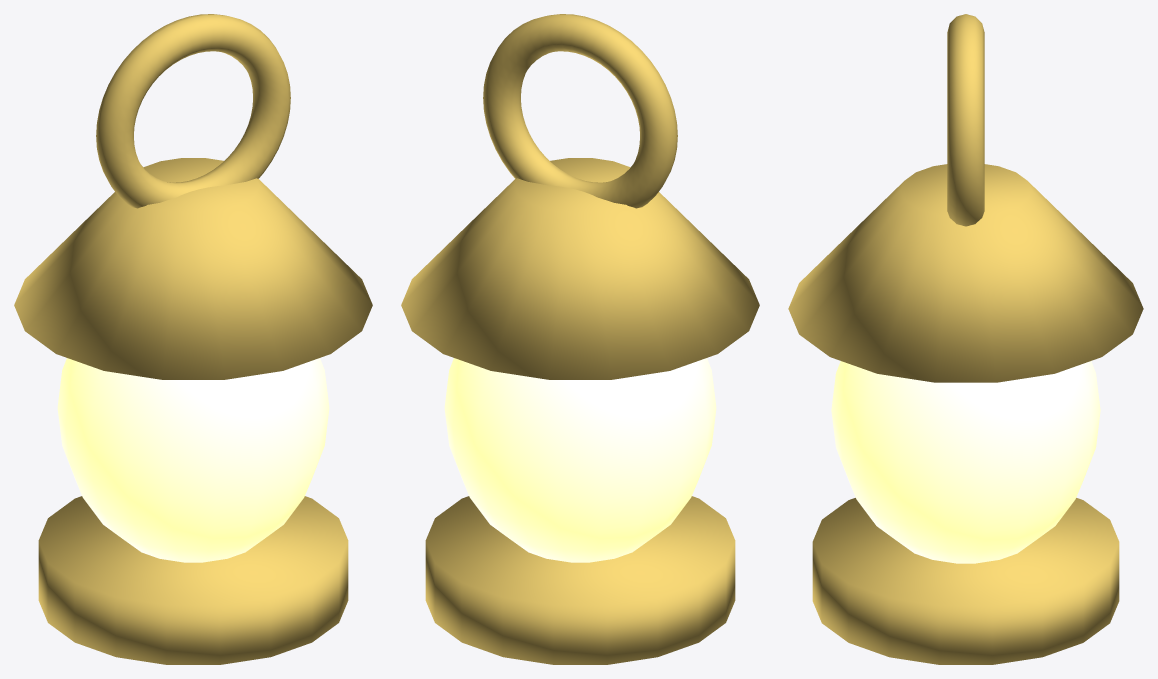
The model's file is tool-lantern.glb.
3 renders of one model, left to right at view 1: azimuth 30°, elevation 25°; view 2: azimuth 150°, elevation 25°; view 3: azimuth 270°, elevation 25°, orthographic.
Visible parts, largest first — view 1: Cone, Sphere, Cylinder, Torus; view 2: Cone, Sphere, Cylinder, Torus; view 3: Cone, Sphere, Cylinder, Torus.
Boxes of the visible parts, <box> form: Cone: <box>14,158,372,379</box>; Sphere: <box>57,358,329,562</box>; Cylinder: <box>38,496,348,664</box>; Torus: <box>96,14,290,208</box>; Cone: <box>401,158,759,379</box>; Sphere: <box>444,358,716,562</box>; Cylinder: <box>425,496,735,664</box>; Torus: <box>483,14,677,208</box>; Cone: <box>788,164,1143,382</box>; Sphere: <box>831,361,1100,563</box>; Cylinder: <box>812,498,1119,664</box>; Torus: <box>947,14,984,226</box>.
Bounding box in the file's own units: 0.1871 × 0.3405 × 0.19.
